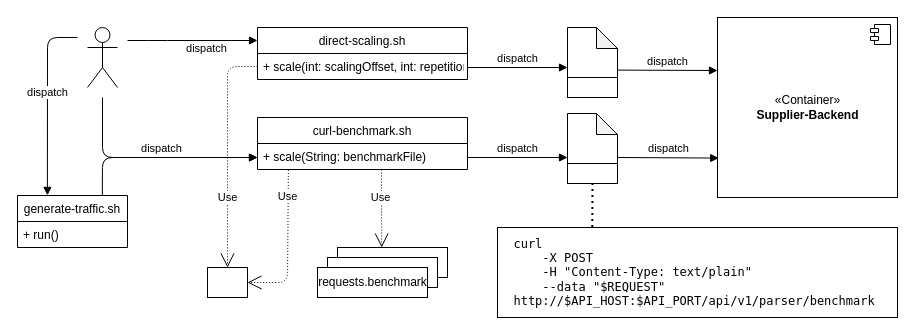
Image size: 915x335. Some labels were removed from this diagram. The centre of each missing label's shape, as x and y in pixels:
".env" belongs at pixel 227 282.
"Grammar" belongs at pixel 592 173.
"JSON" belongs at pixel 592 87.
